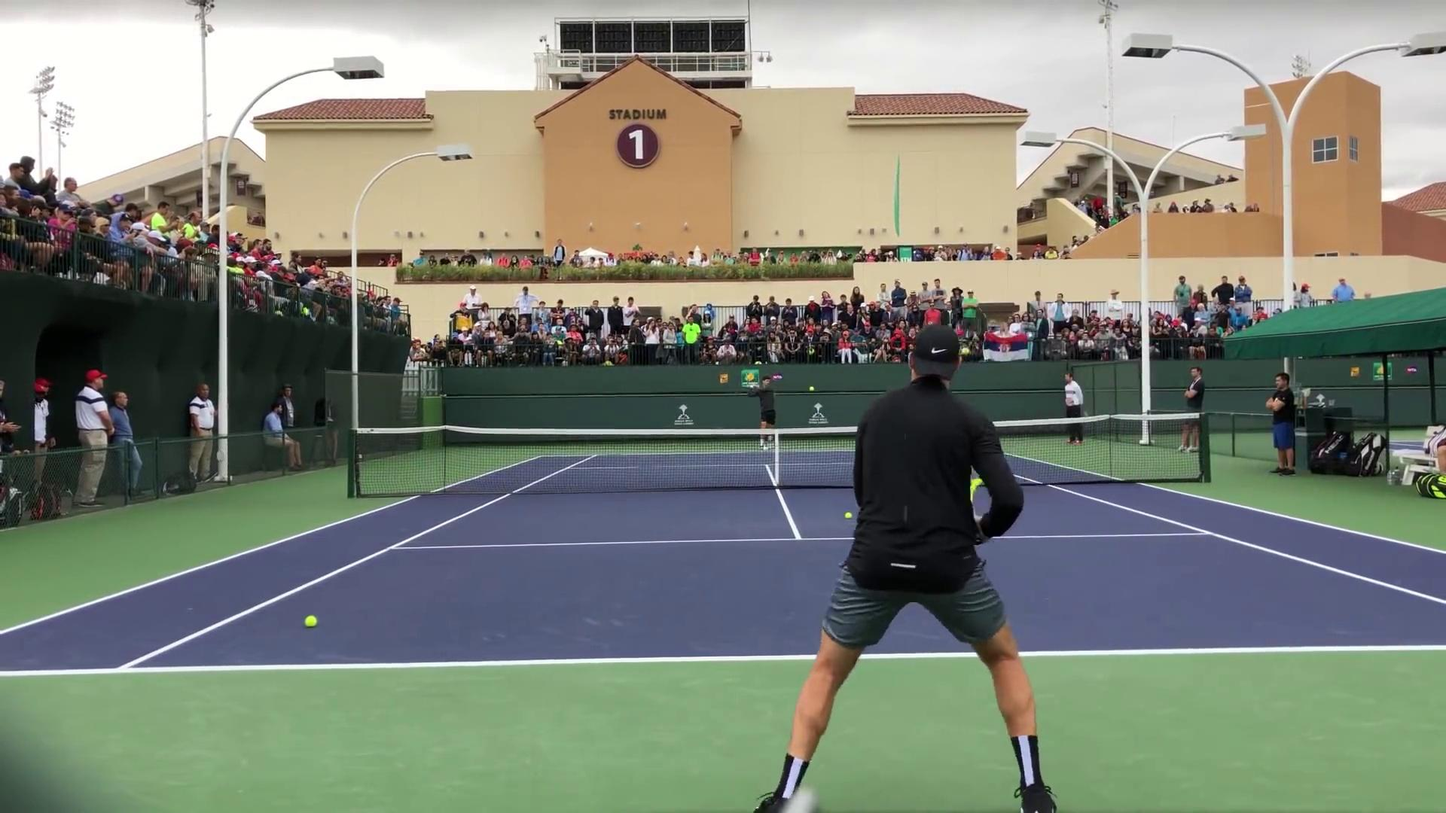ball: (304, 615, 319, 627), (844, 512, 853, 519), (808, 385, 816, 392)
